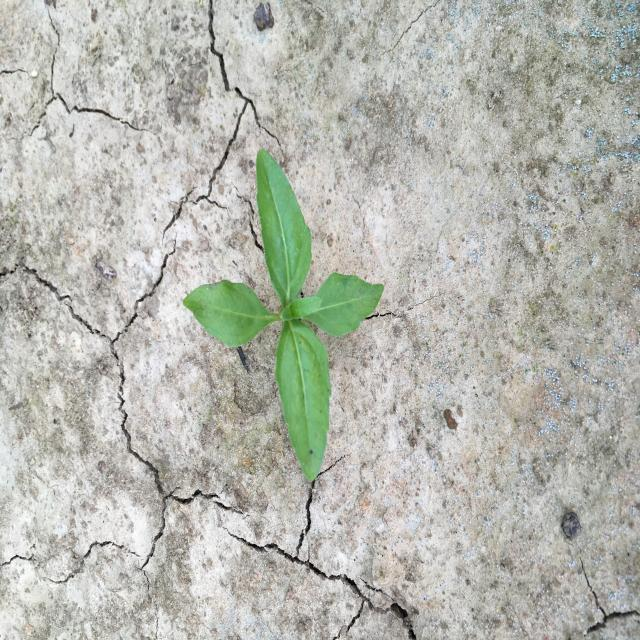Eclipta: (181, 147, 387, 485)
